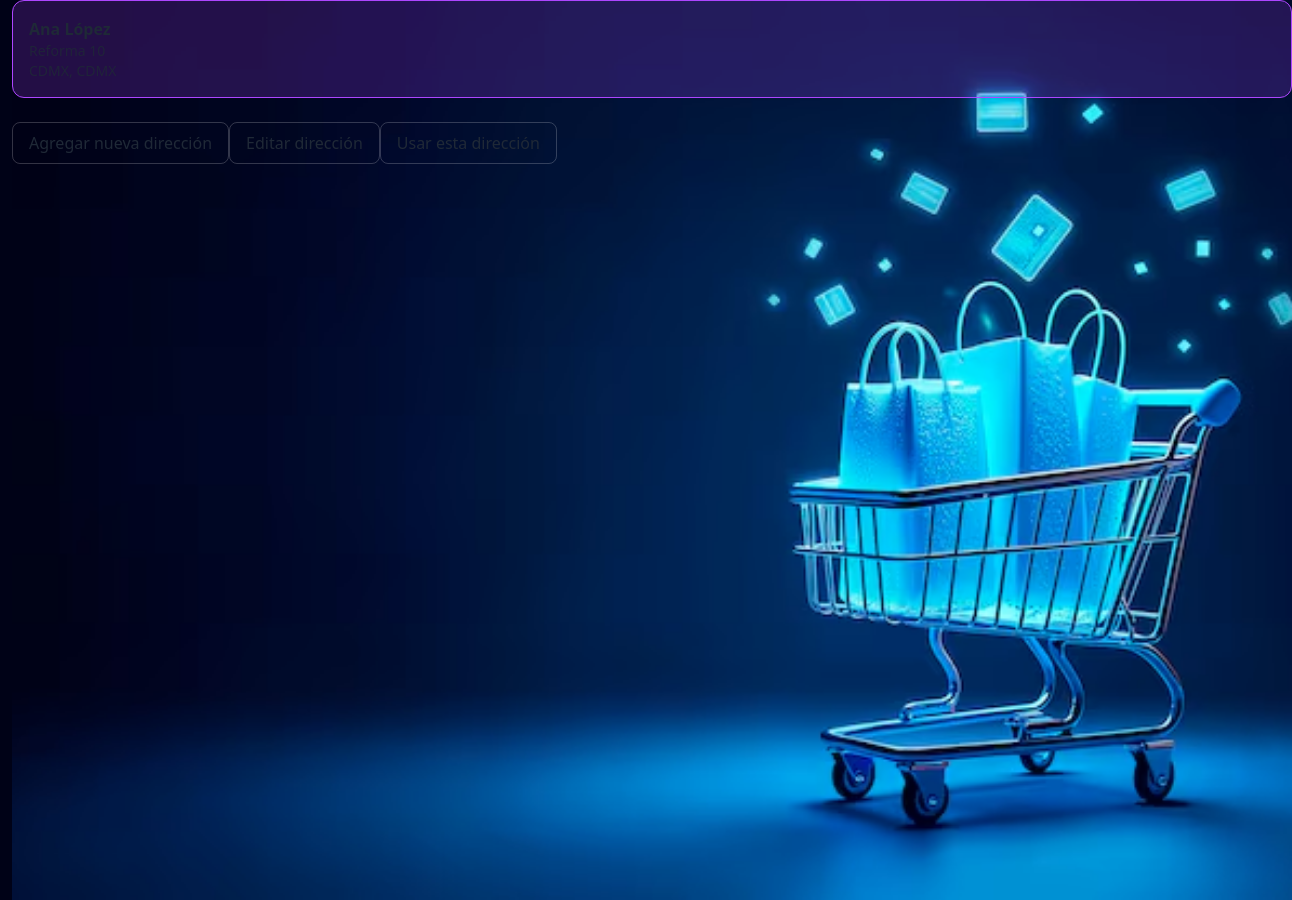
AddressSection › confirms an existing address
Click the button "Usar esta dirección": click(468, 143) [380,122,557,164]
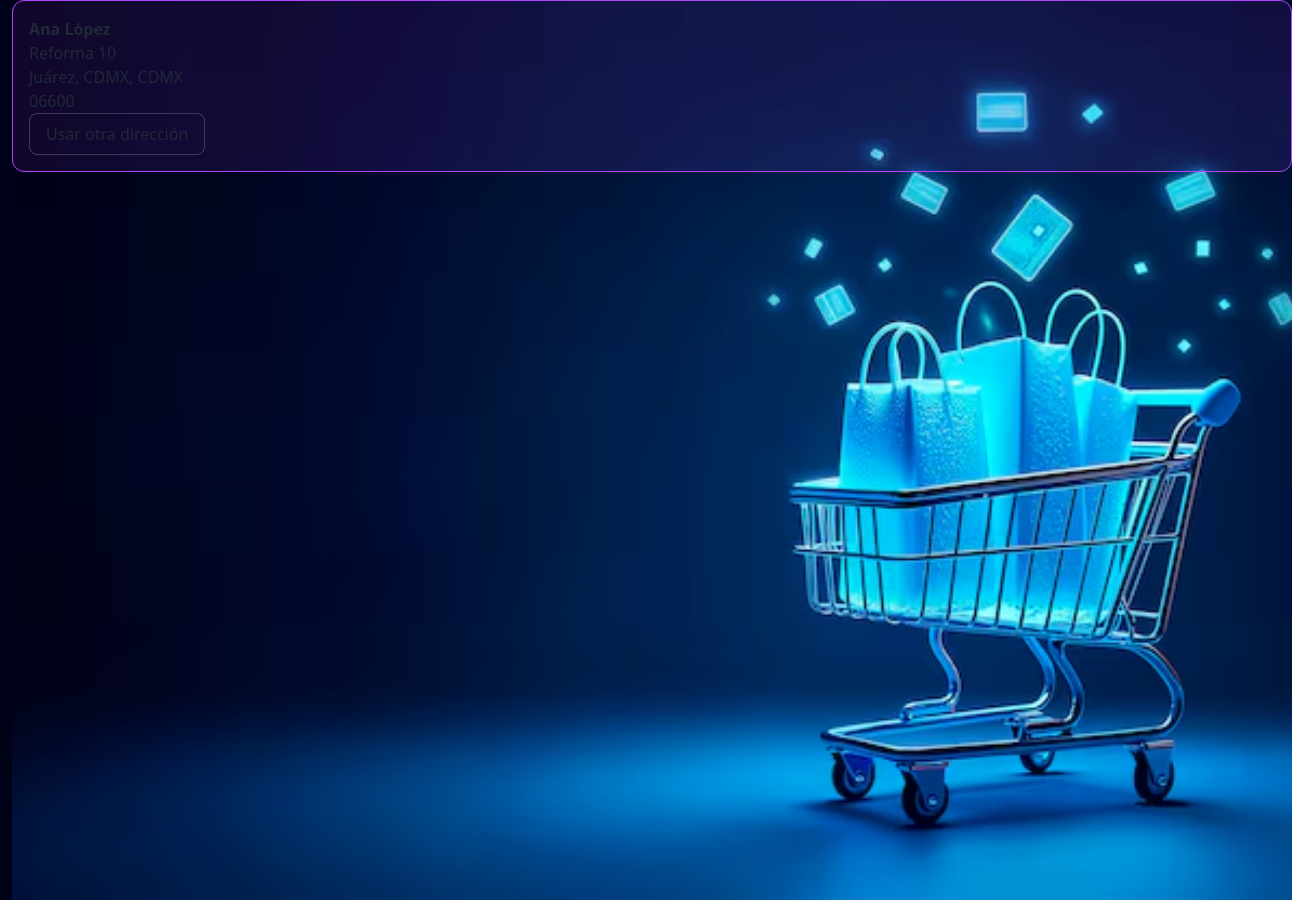
expect the button "Usar otra dirección" is shown: met, box [29,113,205,155]
